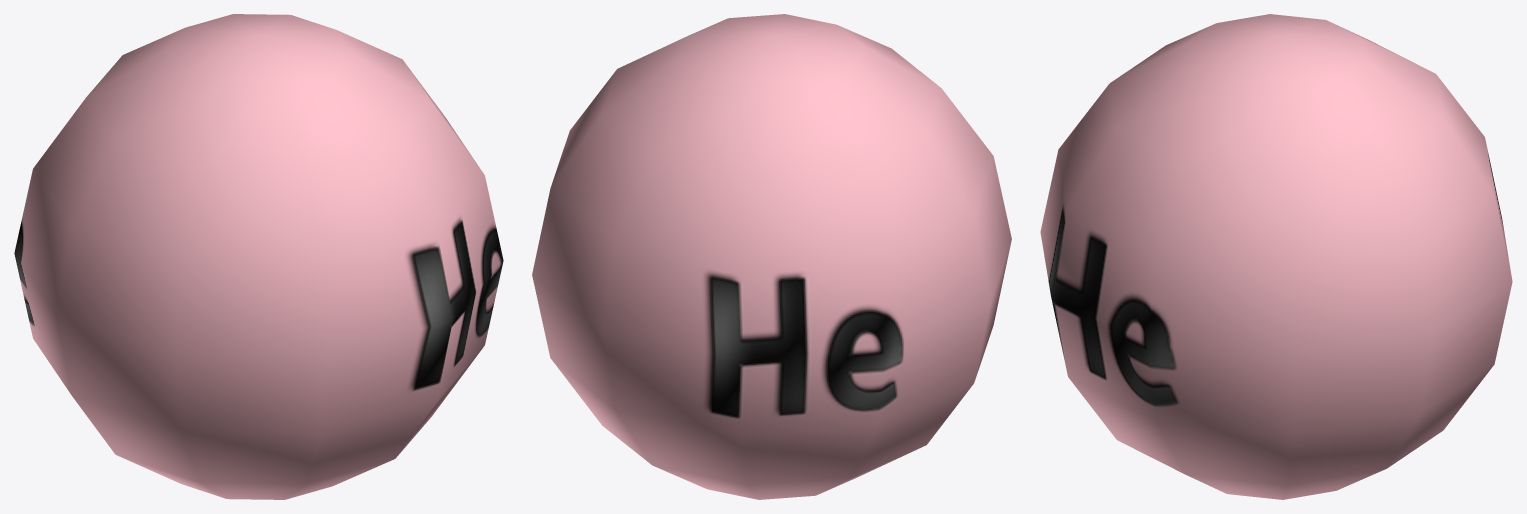
File: helium.fbx
The picture shows the model from 3 angles, left to right: view 1: azimuth 30°, elevation 25°; view 2: azimuth 150°, elevation 25°; view 3: azimuth 270°, elevation 25°; orthographic projection.
Visible parts, largest first — view 1: Helium_Atom; view 2: Helium_Atom; view 3: Helium_Atom.
Boxes of the visible parts, bbox=[...] form: Helium_Atom: bbox=[14, 14, 503, 499]; Helium_Atom: bbox=[532, 14, 1011, 499]; Helium_Atom: bbox=[1040, 14, 1512, 499].
Bounding box in the file's own units: 18.62 × 18.66 × 18.1.
Materials: 1 (1 with a texture image).
